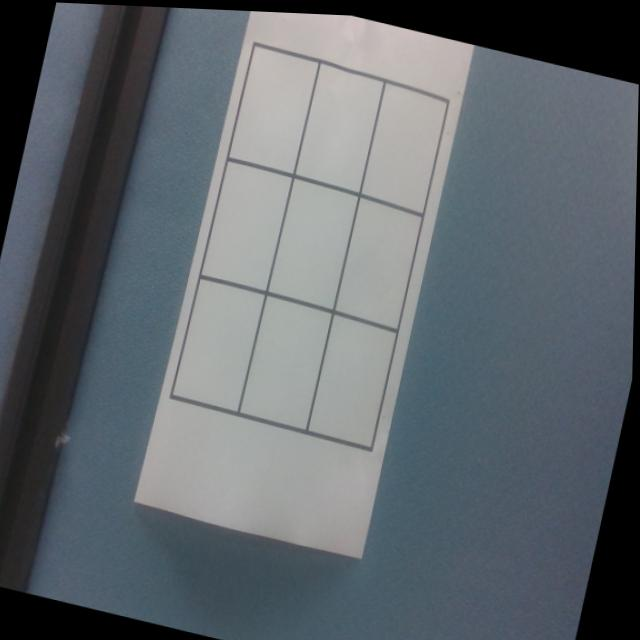null: (173, 273, 267, 414), (241, 289, 334, 430), (226, 40, 319, 178), (267, 174, 360, 310), (334, 191, 424, 331), (201, 158, 293, 294), (310, 309, 399, 445), (294, 59, 384, 193), (362, 78, 448, 214)
table: (165, 29, 458, 455)
